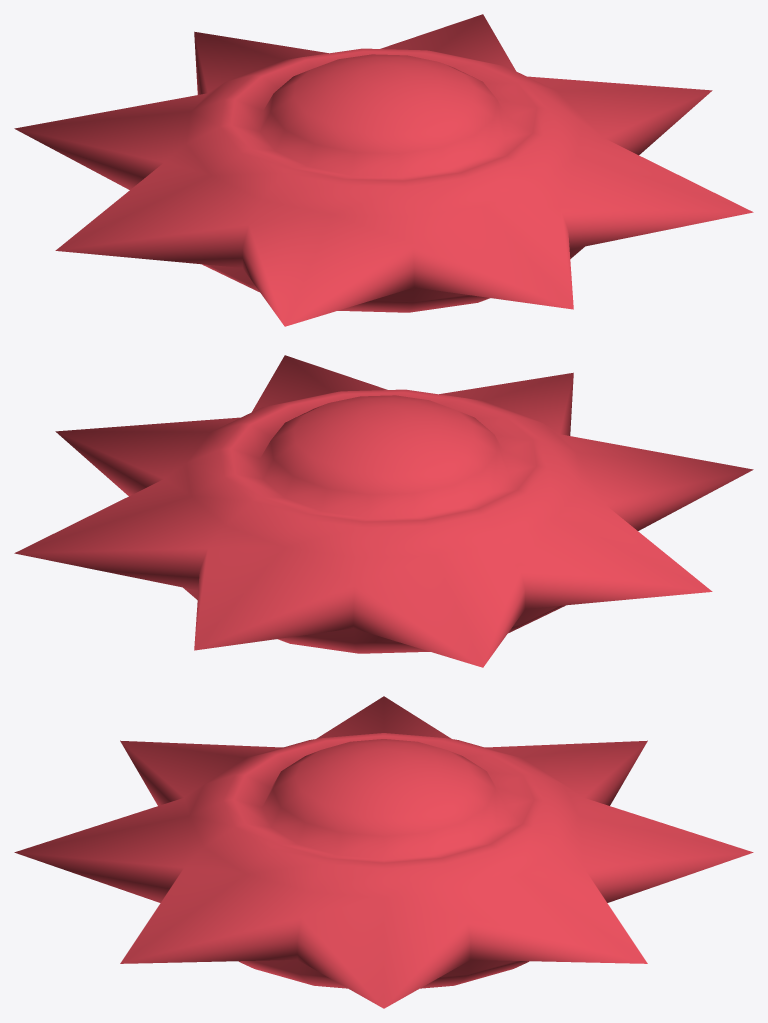
File: rammer.fbx
3 views of the same model, one above another, from view 1: azimuth 30°, elevation 25°; view 2: azimuth 150°, elevation 25°; view 3: azimuth 270°, elevation 25° (orthographic). The views are drawn at different scales.
Parts seen in each view (by area): view 1: Cylinder.012; view 2: Cylinder.012; view 3: Cylinder.012.
Part boxes in pixels (box(x1,y1,x2,y2)): Cylinder.012: box(14, 14, 753, 326); Cylinder.012: box(14, 355, 753, 667); Cylinder.012: box(14, 696, 753, 1008).
Bounding box in the file's own units: 404 × 93.04 × 404.
